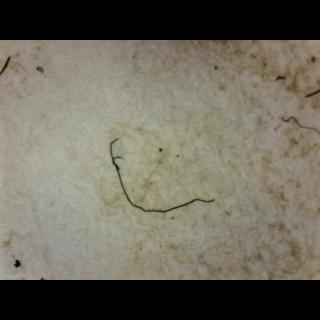Microplastic: (104, 134, 232, 228)
